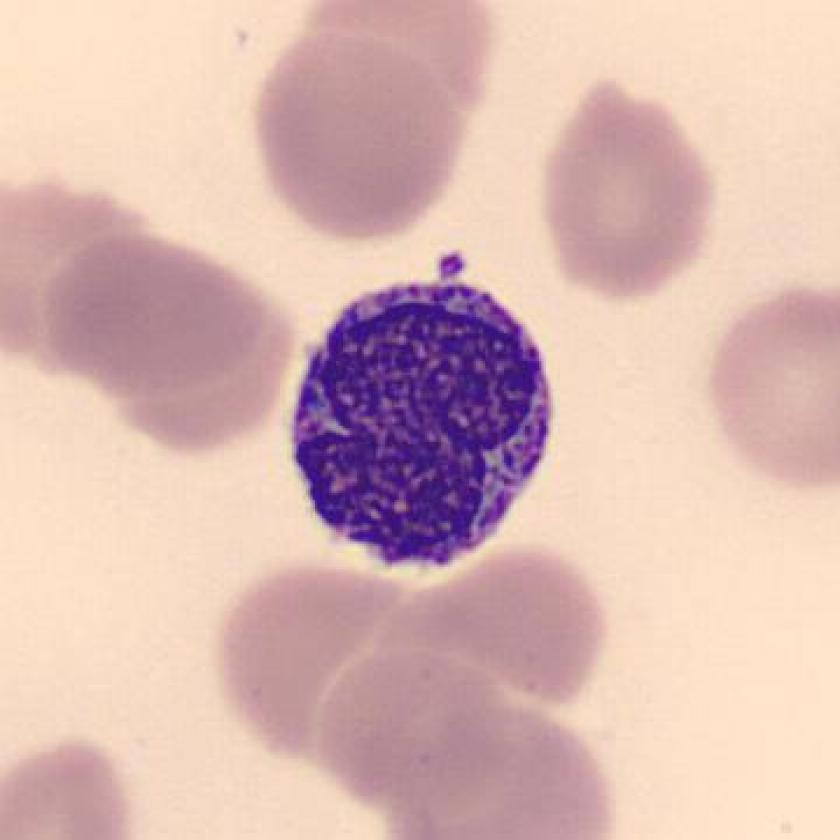monocyte: (277, 274, 571, 596)
